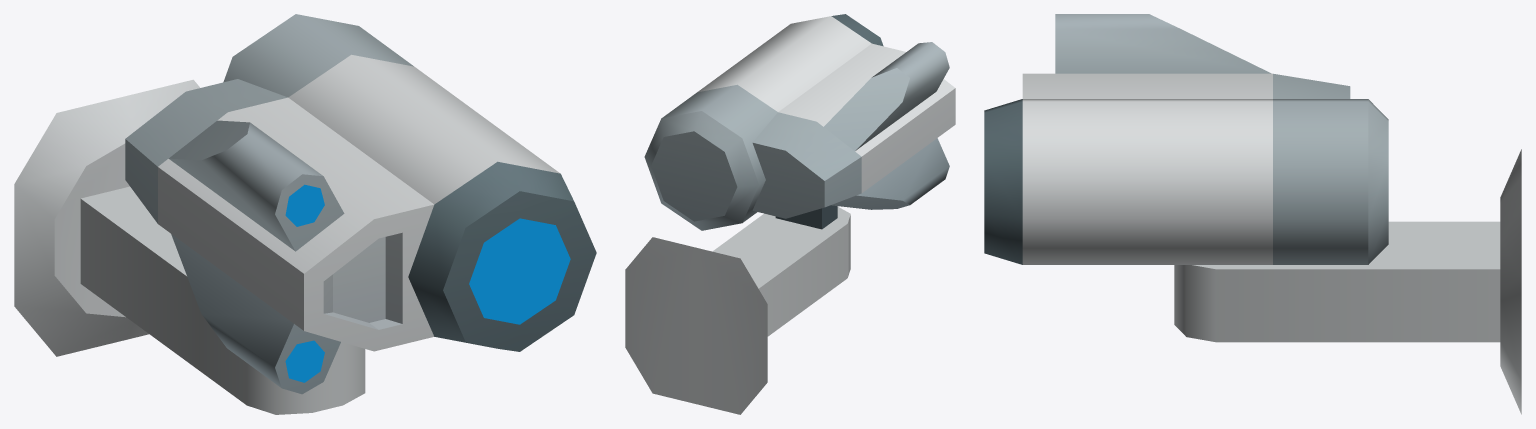
The model's file is Security_cam_003.glb.
3 renders of one model, left to right at view 1: azimuth 30°, elevation 25°; view 2: azimuth 150°, elevation 25°; view 3: azimuth 270°, elevation 25°, orthographic. The views are drawn at different scales.
Visible parts, largest first — view 1: Cam_003, Security_cam_003; view 2: Cam_003, Security_cam_003; view 3: Cam_003, Security_cam_003.
Part boxes in pixels (x1,y1,x2,y2): Cam_003: (125,14,596,394); Security_cam_003: (14,79,365,414); Cam_003: (644,14,955,230); Security_cam_003: (625,205,850,414); Cam_003: (984,14,1388,264); Security_cam_003: (1174,149,1521,414).
Bounding box in the file's own units: 0.2479 × 0.3139 × 0.4594.
2 materials, 2 textured.
